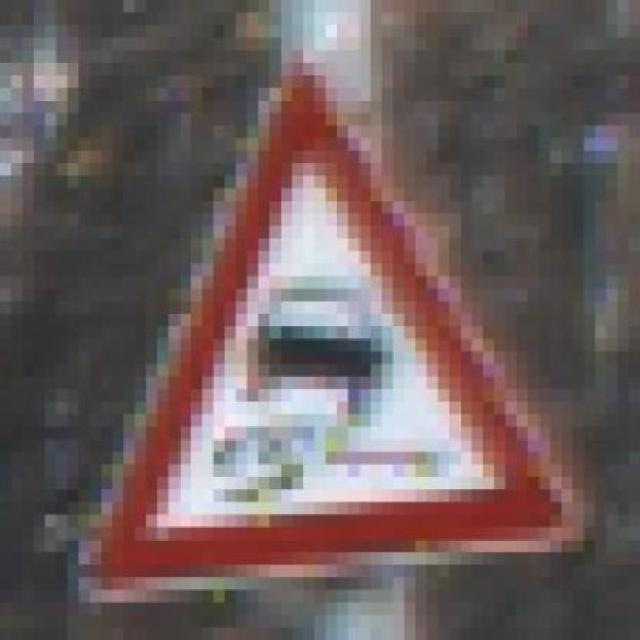Slippery Road Ahead: (68, 25, 595, 590)
